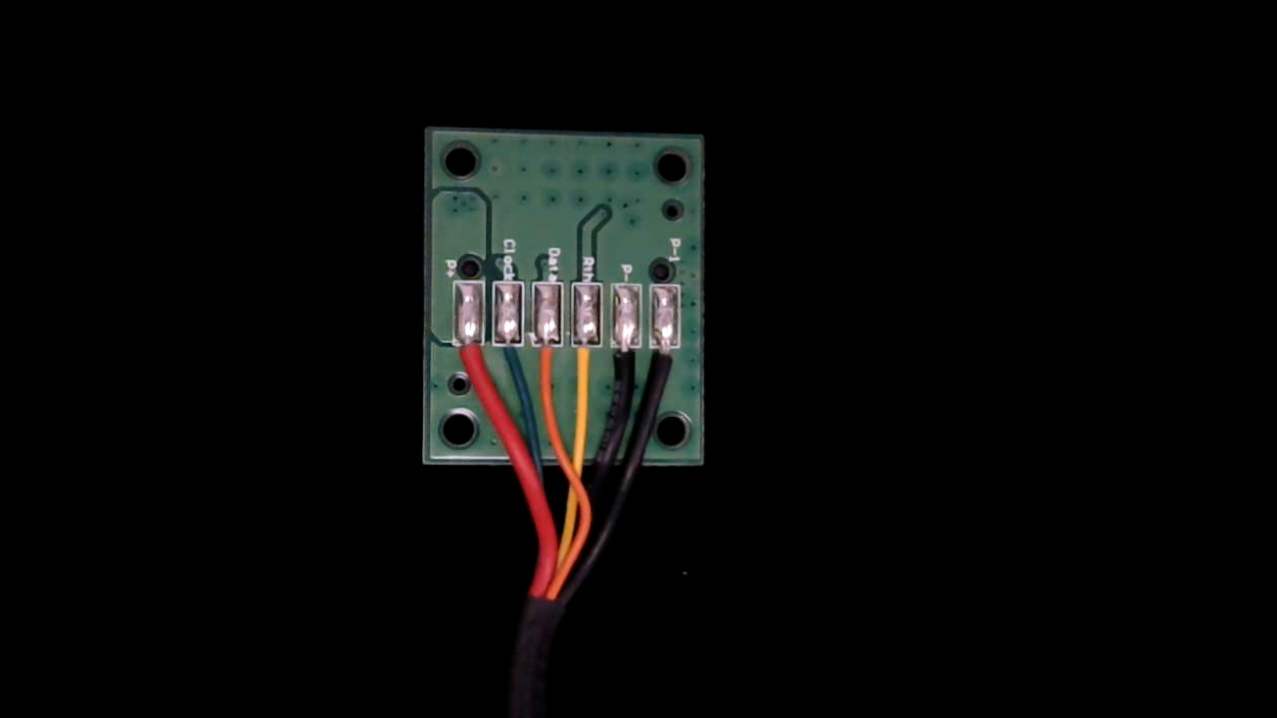Black: (611, 324, 645, 398)
Black1: (651, 328, 685, 396)
Green: (493, 325, 526, 386)
Orange: (533, 326, 566, 399)
Red: (452, 326, 487, 397)
Yellow: (568, 326, 603, 401)
